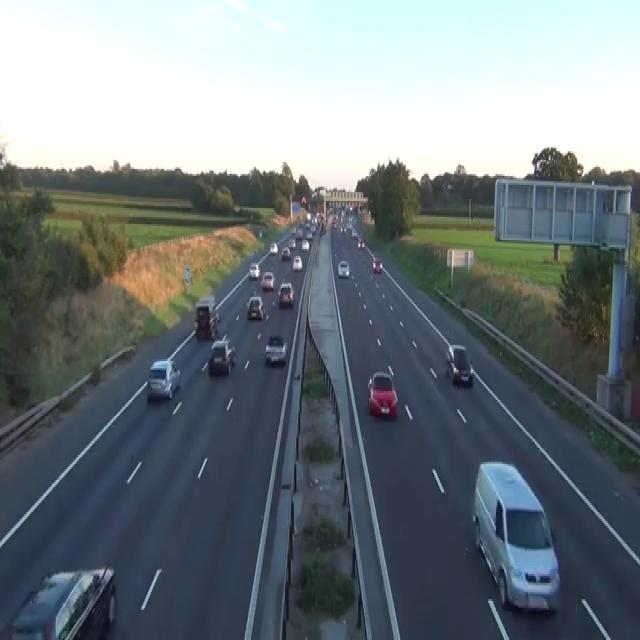Car: (471, 459, 560, 613), (8, 564, 116, 638), (147, 357, 181, 400), (367, 372, 398, 418), (445, 343, 473, 386), (208, 336, 235, 375), (264, 334, 286, 364), (246, 295, 264, 320), (278, 281, 294, 306), (260, 270, 274, 290), (337, 260, 349, 278), (248, 261, 260, 279), (292, 254, 302, 270), (372, 258, 382, 272), (281, 247, 290, 260), (269, 242, 278, 254), (301, 238, 309, 251), (319, 222, 326, 235), (288, 238, 296, 249), (295, 228, 302, 240), (213, 310, 219, 324), (357, 238, 364, 249), (351, 228, 358, 238), (305, 230, 312, 238), (310, 224, 316, 233), (331, 218, 336, 228), (300, 196, 306, 204), (340, 226, 346, 234), (258, 228, 262, 238), (306, 212, 311, 220), (357, 240, 361, 249), (291, 226, 296, 233)
Truck: (194, 295, 218, 340)
